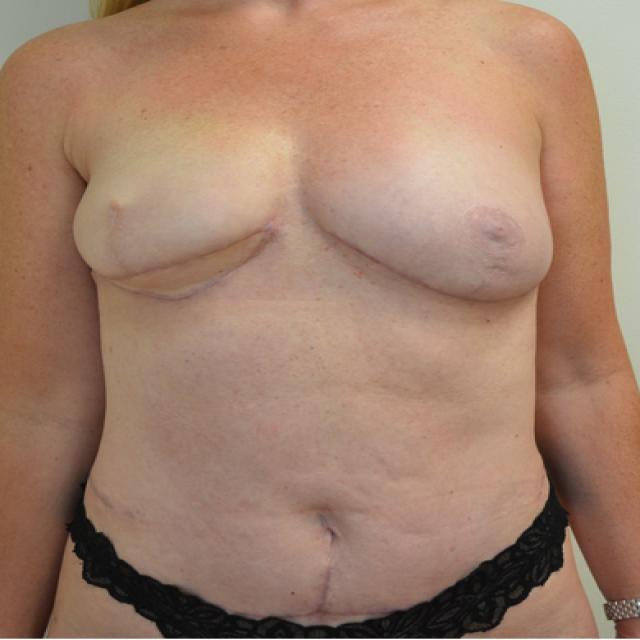Seno herido: (310, 110, 560, 324), (66, 110, 296, 320)
